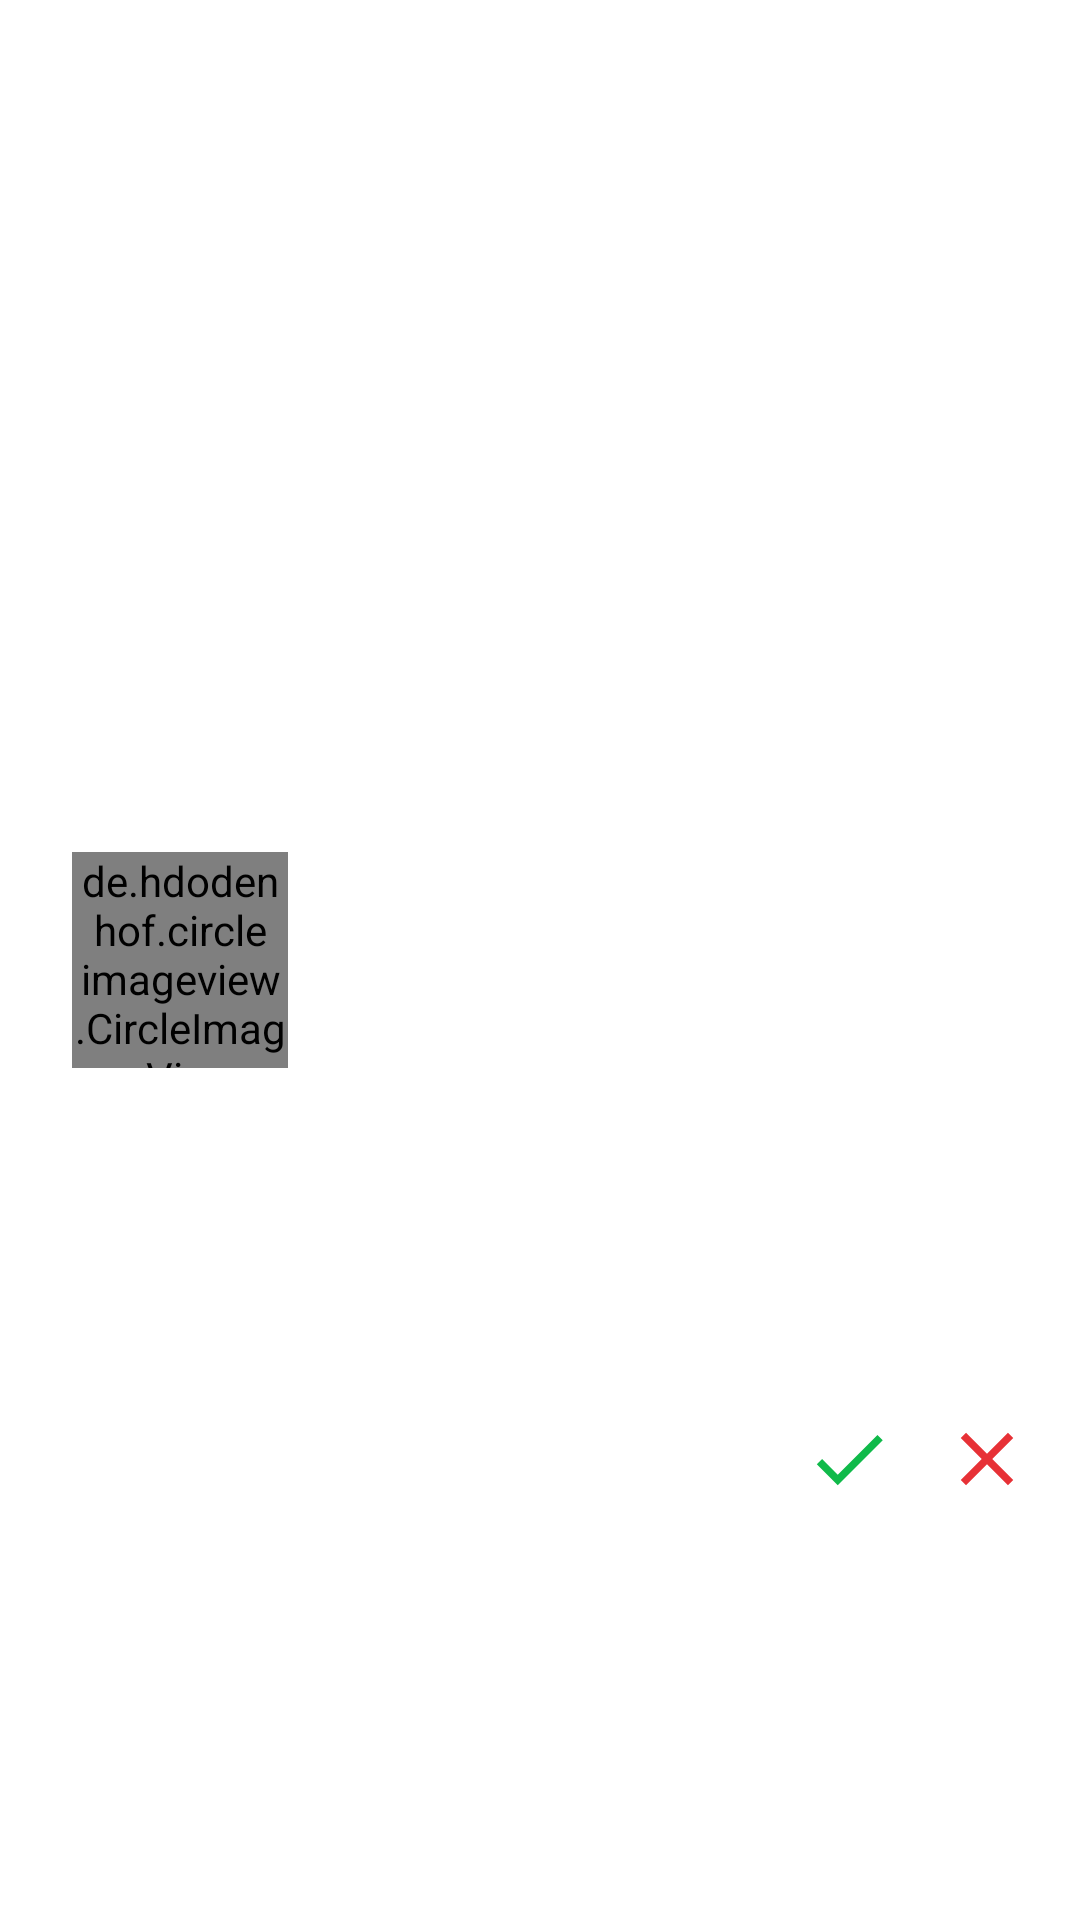

Screen size 1080w x 1920h. Icon name, then its box in pixels as box=[x1, y1, x2, y2]:
cancel: box=[961, 1433, 1013, 1485]
check: box=[817, 1435, 883, 1485]
